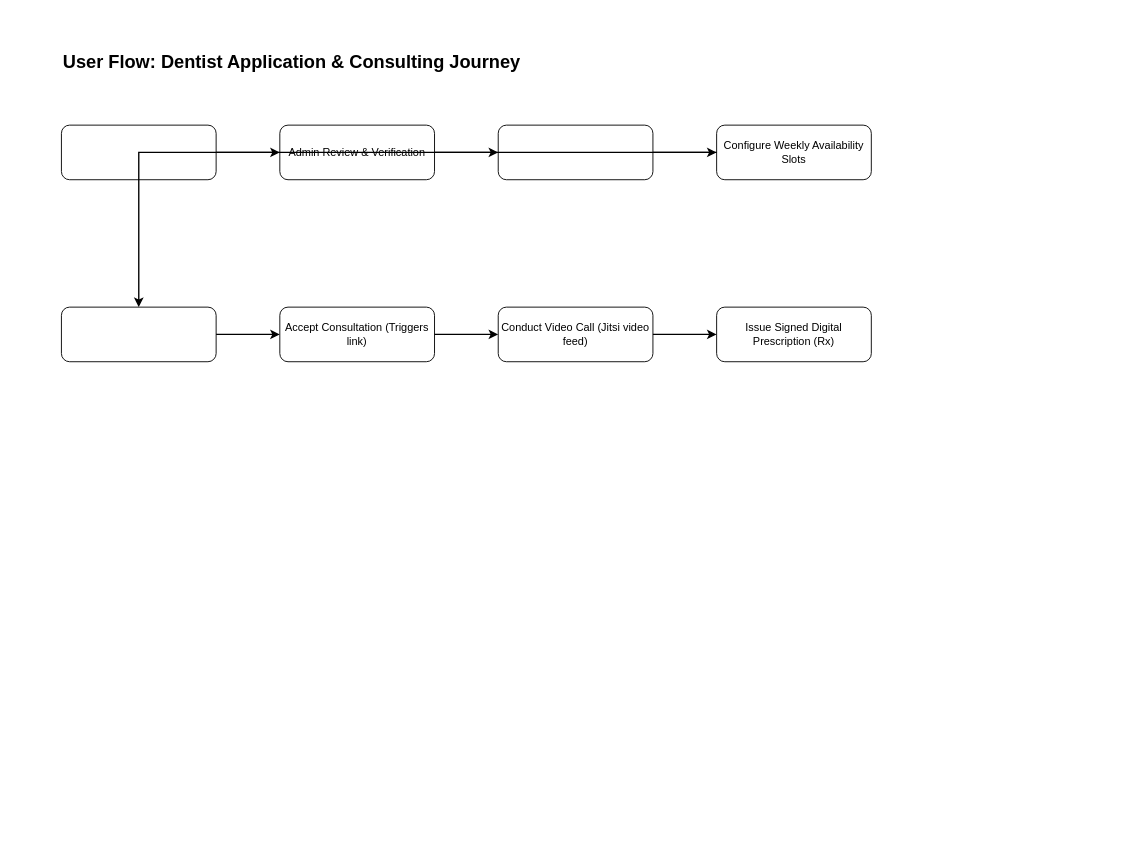
This 1123x850 diagram has some shape labels left out. Each missing label, with the centre of its shape:
"Credentials Approved & Activated" goes at [575,152].
"Receive Patient Booking Request" goes at [138,334].
"Submit Registration with License PDF" goes at [138,152].
